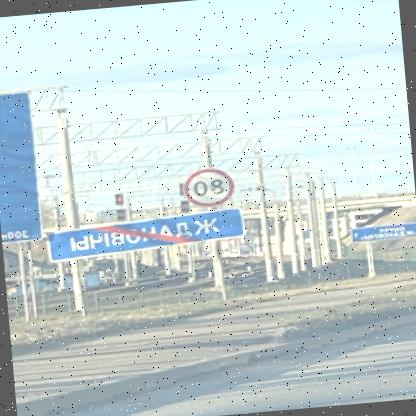speedlimit: (183, 164, 241, 206)
